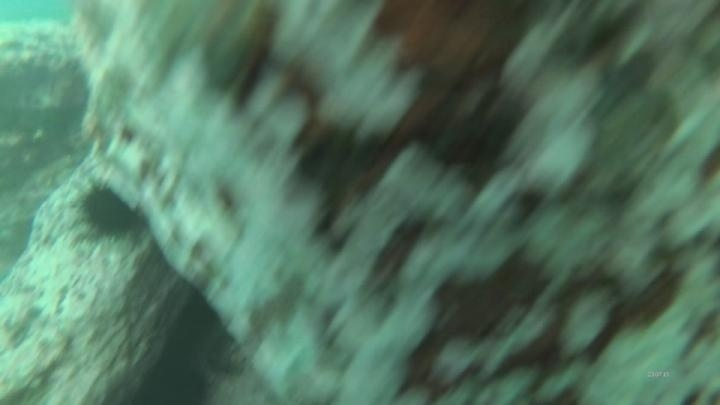echinus: (74, 178, 149, 245)
